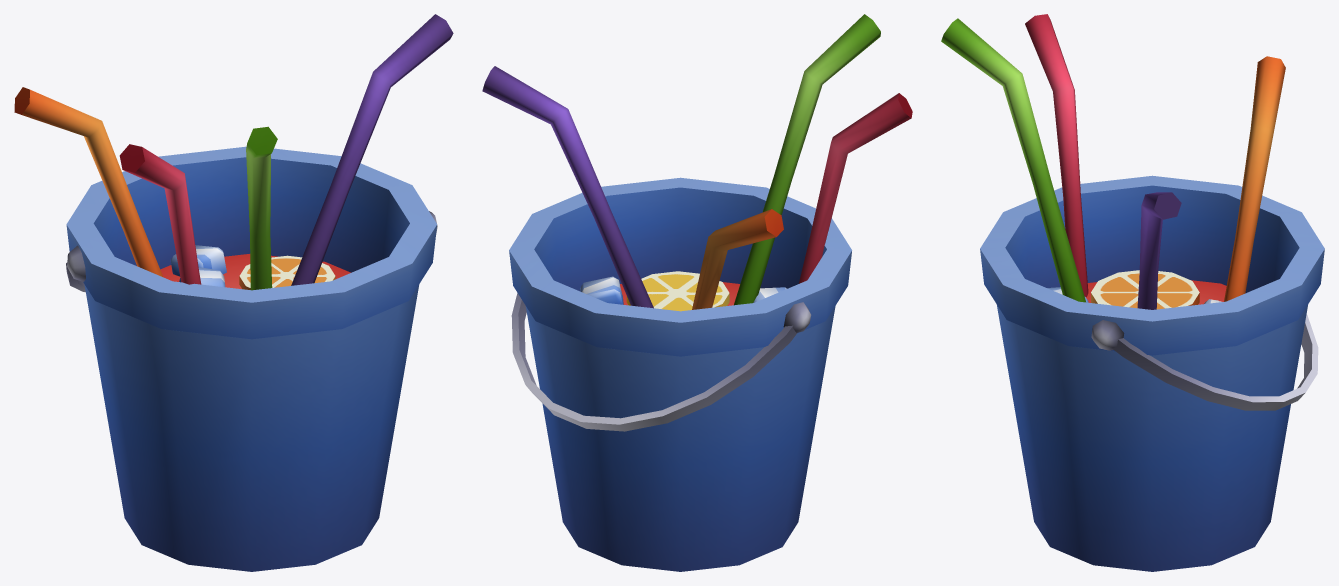
Rendered from m_SangriaBucket01.fbx.
The picture shows the model from 3 angles, left to right: view 1: azimuth 30°, elevation 25°; view 2: azimuth 150°, elevation 25°; view 3: azimuth 270°, elevation 25°; orthographic projection. The views are drawn at different scales.
Parts seen in each view (by area): view 1: m_SangriaBucket01; view 2: m_SangriaBucket01; view 3: m_SangriaBucket01.
Part boxes in pixels (x1,y1,x2,y2): m_SangriaBucket01: (14,14,453,571); m_SangriaBucket01: (482,14,912,571); m_SangriaBucket01: (941,14,1324,571).
Size of the model in its own units: 38.84 by 46.43 by 35.25.
